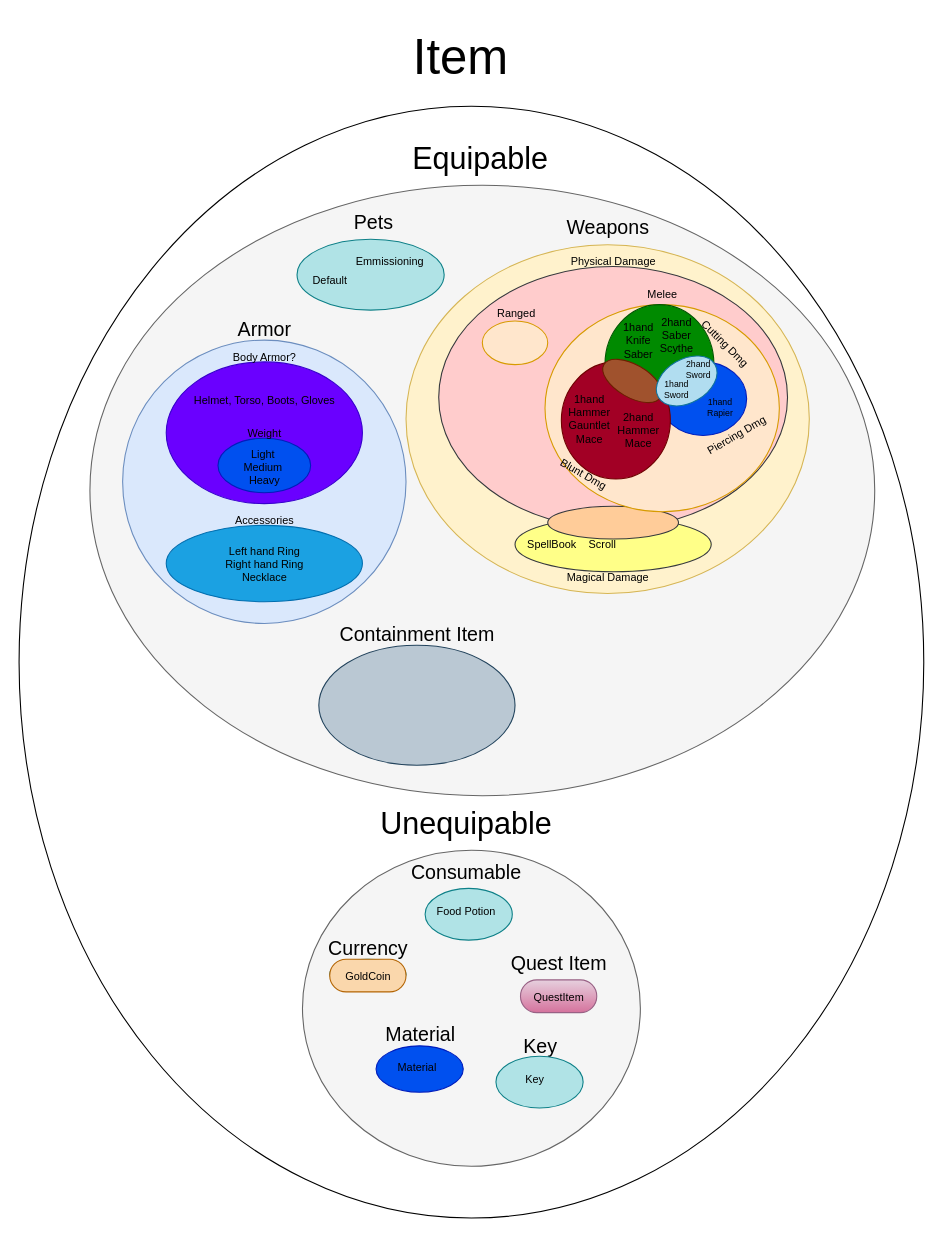
Image size: 943x1237. Some labels were removed from this diagram. Here are the shapes that lost their labels. From the top down, the centre of each, then its label:
At (514,342): "Bow Crossbow".
At (631,380): "2hand GreatSword".
At (613,522): "Staff FantomSword FantomBow".
At (416,704): "Backpack Pocket Bag".
